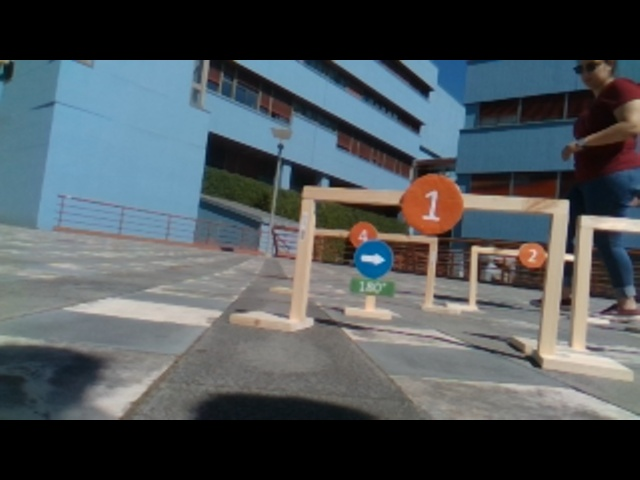180_degree: (346, 275, 397, 299)
checkpoint_foot: (530, 347, 640, 380), (229, 303, 316, 335), (418, 299, 461, 316), (440, 297, 481, 312)
checkpoint_side: (538, 195, 572, 350), (286, 180, 319, 318), (569, 208, 593, 354), (422, 233, 438, 301), (467, 242, 482, 305)
checkpoint_signal: (292, 180, 574, 218), (311, 226, 443, 248), (469, 243, 547, 259)
four: (347, 217, 379, 252)
one: (399, 168, 465, 234)
two: (518, 240, 545, 270)
